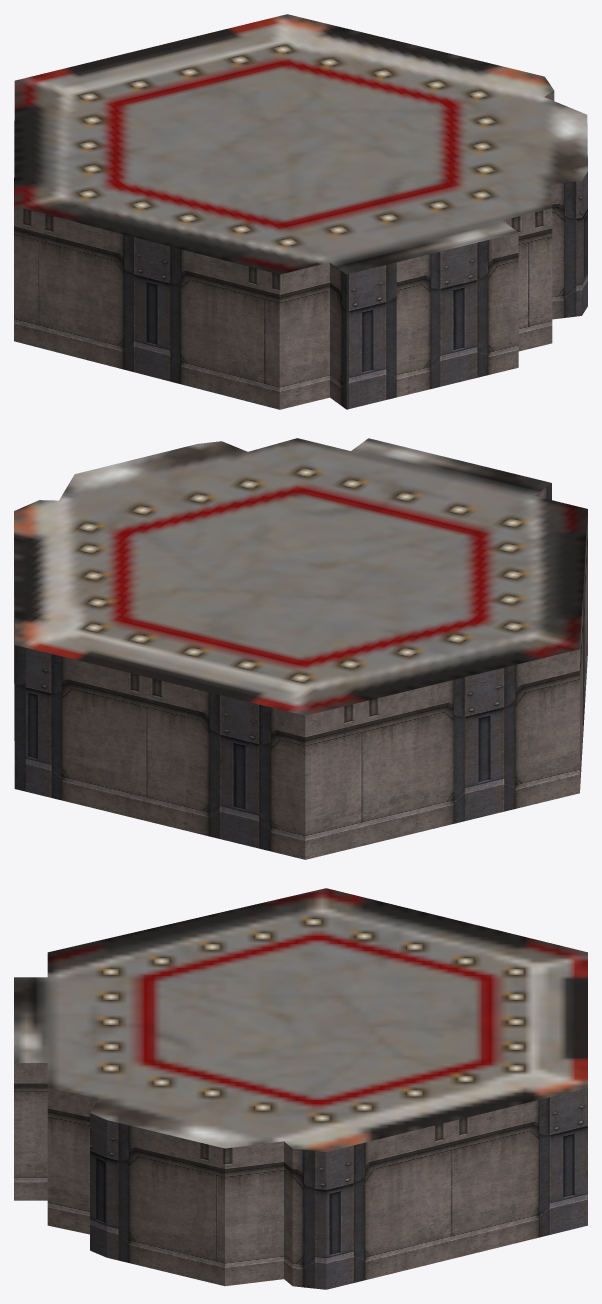
File: bsealed_heavy_12.glb
3 views of the same model, one above another, from view 1: azimuth 30°, elevation 25°; view 2: azimuth 150°, elevation 25°; view 3: azimuth 270°, elevation 25° (orthographic). The views are drawn at different scales.
Parts seen in each view (by area): view 1: buildings/saxarba/bsealed_heavy/bsealed_heavy_12; view 2: buildings/saxarba/bsealed_heavy/bsealed_heavy_12; view 3: buildings/saxarba/bsealed_heavy/bsealed_heavy_12.
Boxes of the visible parts, <box> form: buildings/saxarba/bsealed_heavy/bsealed_heavy_12: <box>14,14,587,409</box>; buildings/saxarba/bsealed_heavy/bsealed_heavy_12: <box>14,438,587,859</box>; buildings/saxarba/bsealed_heavy/bsealed_heavy_12: <box>14,888,587,1289</box>.
Bounding box in the file's own units: 74 × 18 × 68.
